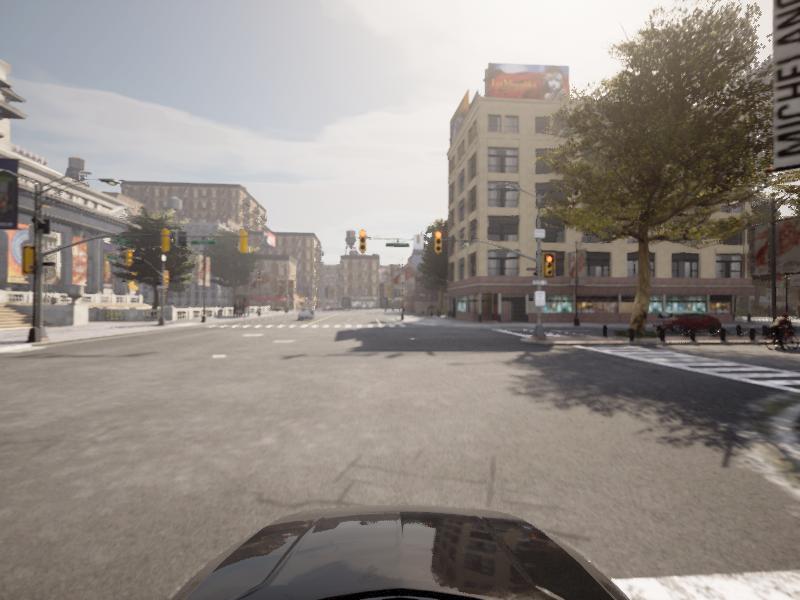vehicle: (648, 312, 726, 332), (759, 313, 799, 350)
